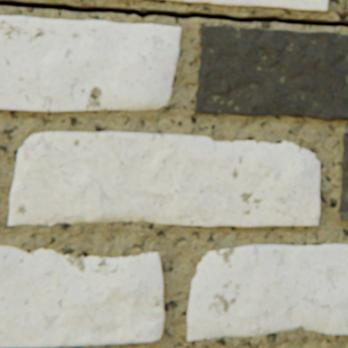brick: (10, 131, 320, 225), (0, 16, 181, 111), (0, 245, 165, 346), (188, 243, 347, 339), (196, 26, 347, 120), (168, 0, 327, 11), (339, 132, 347, 219), (345, 0, 347, 12)
crack: (0, 0, 347, 27)
